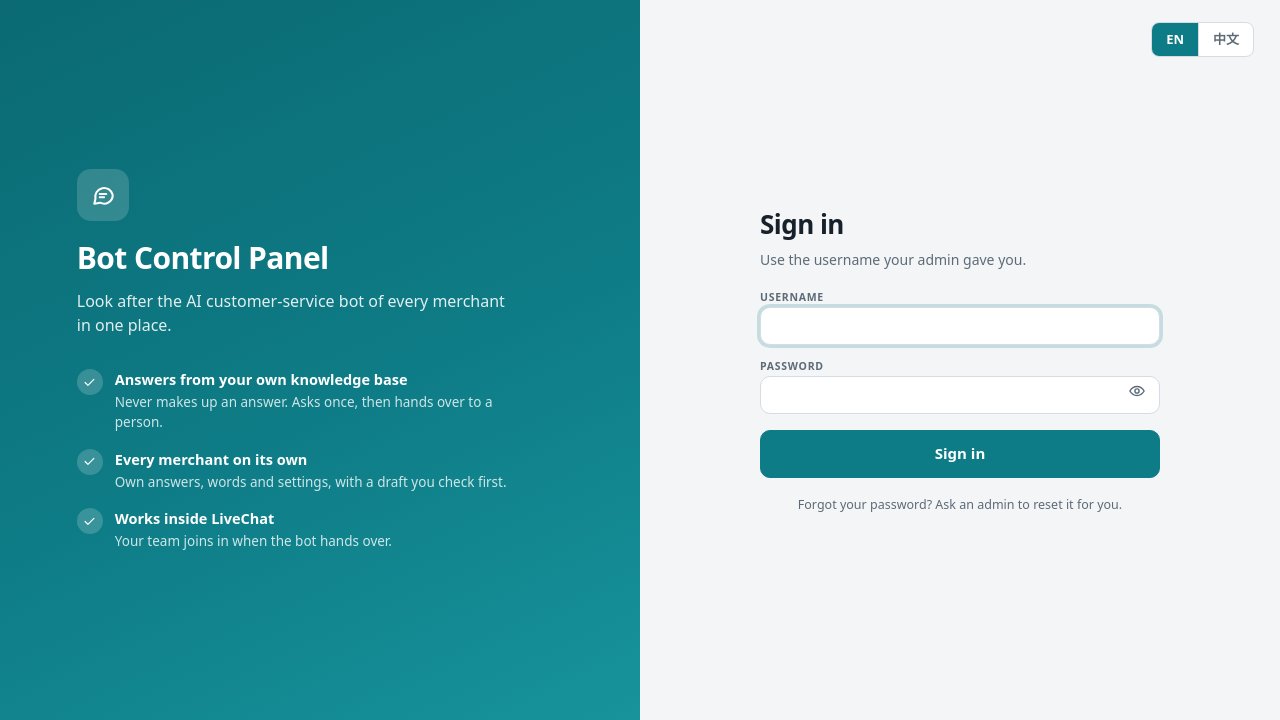
it: Login page › shows or hides the password, and warns when Caps Lock is on
This screenshot has width=1280, height=720.
Click the button named "Show the password". click: (1137, 391)
box: [1120, 374, 1154, 408]
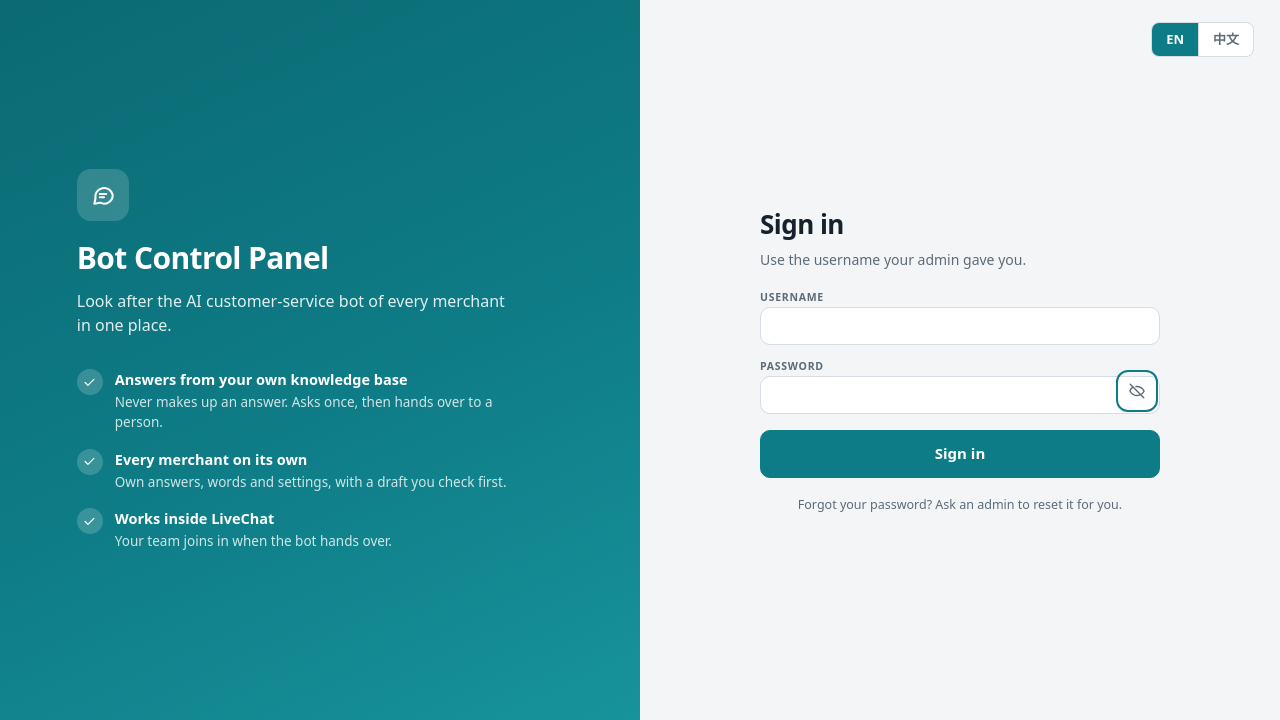
Click the button named "Hide the password". click: (1137, 391)
box: [1120, 374, 1154, 408]
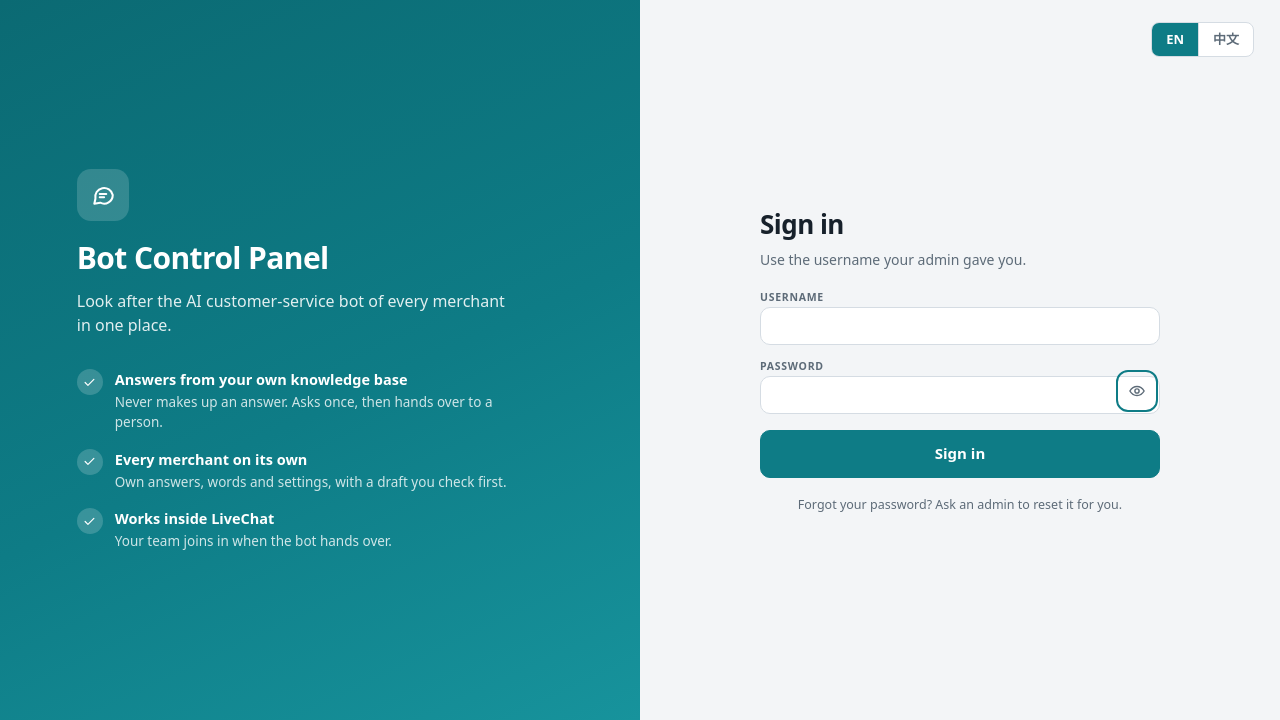
Expected: the text "Caps Lock is on" is not shown
Press a in the password field labelled "Password", box [760, 376, 1160, 414]
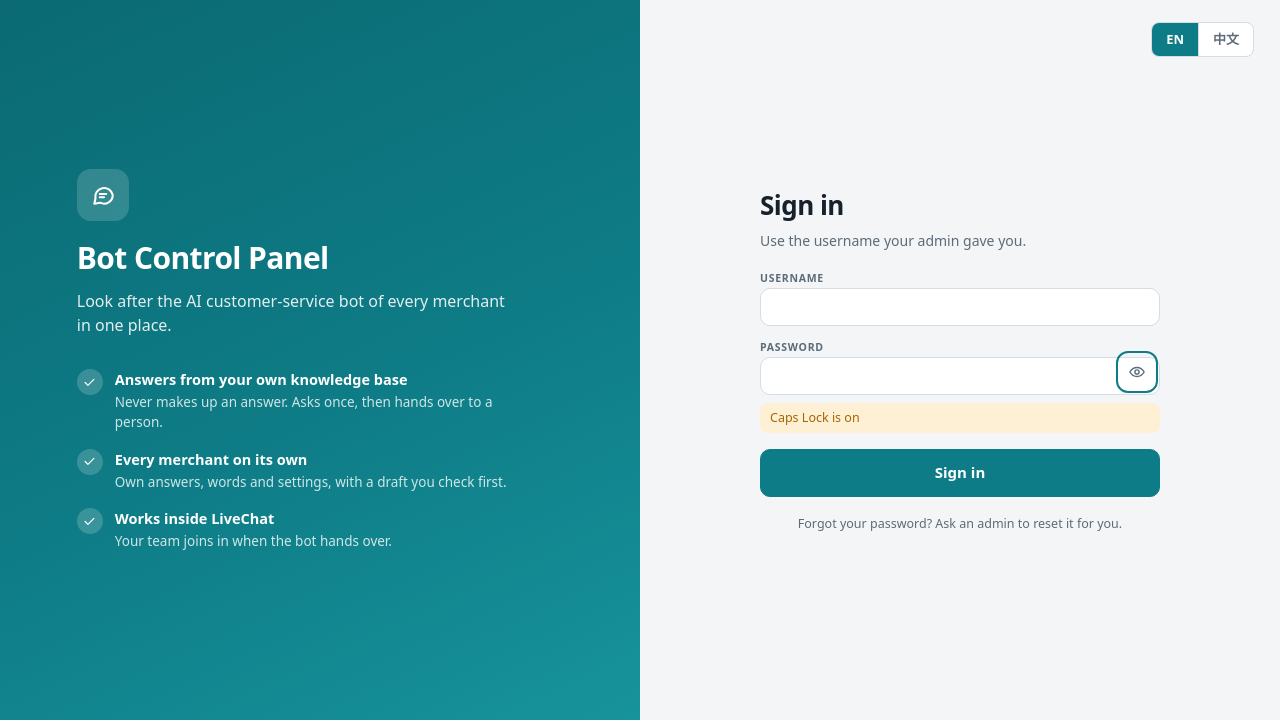
Now the text "Caps Lock is on" is shown, box [760, 403, 1160, 433]
